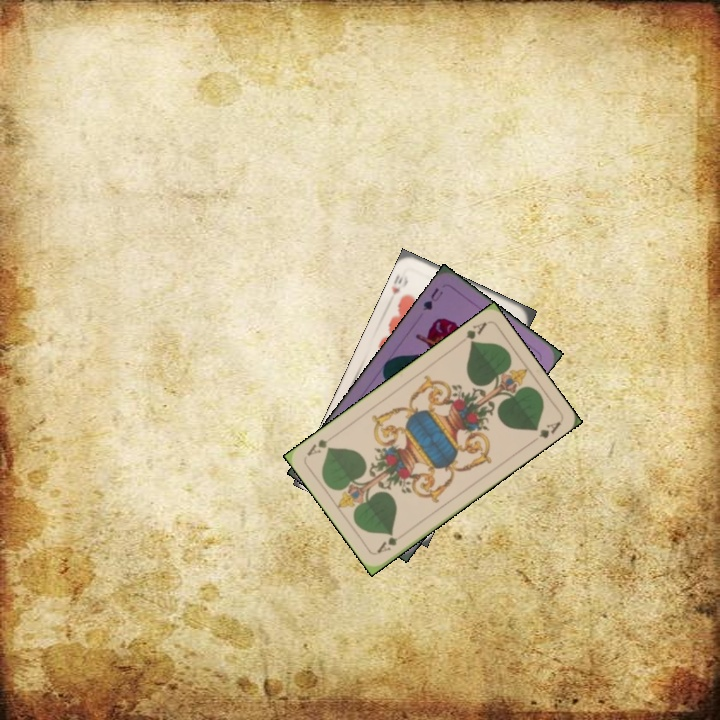GA: (373, 529, 409, 556), (462, 318, 489, 348)
GU: (418, 283, 446, 315)
H10: (385, 271, 411, 304)
